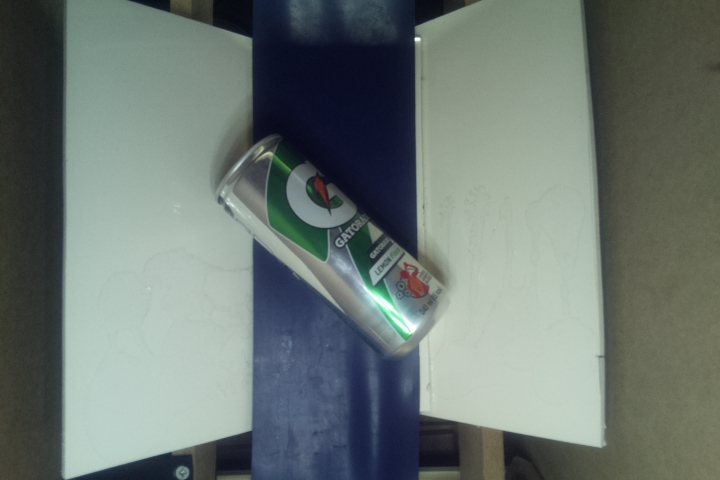can: (221, 135, 457, 362)
